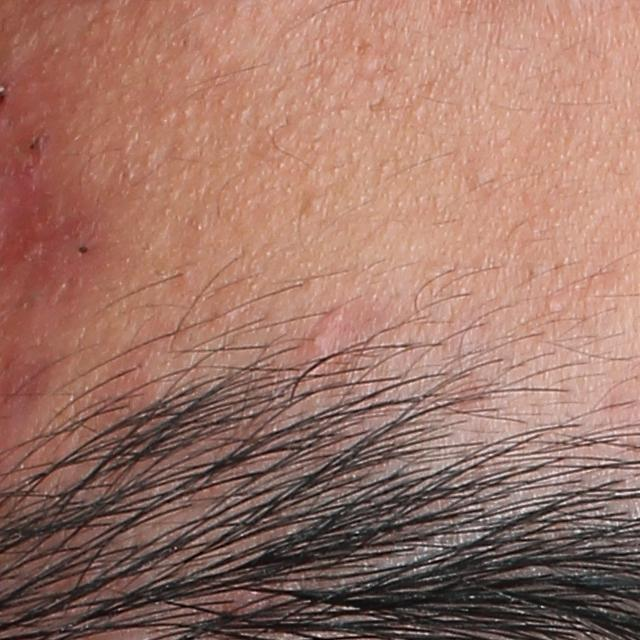comedo: (299, 192, 324, 218), (544, 294, 565, 313)
papule: (307, 330, 330, 353)
